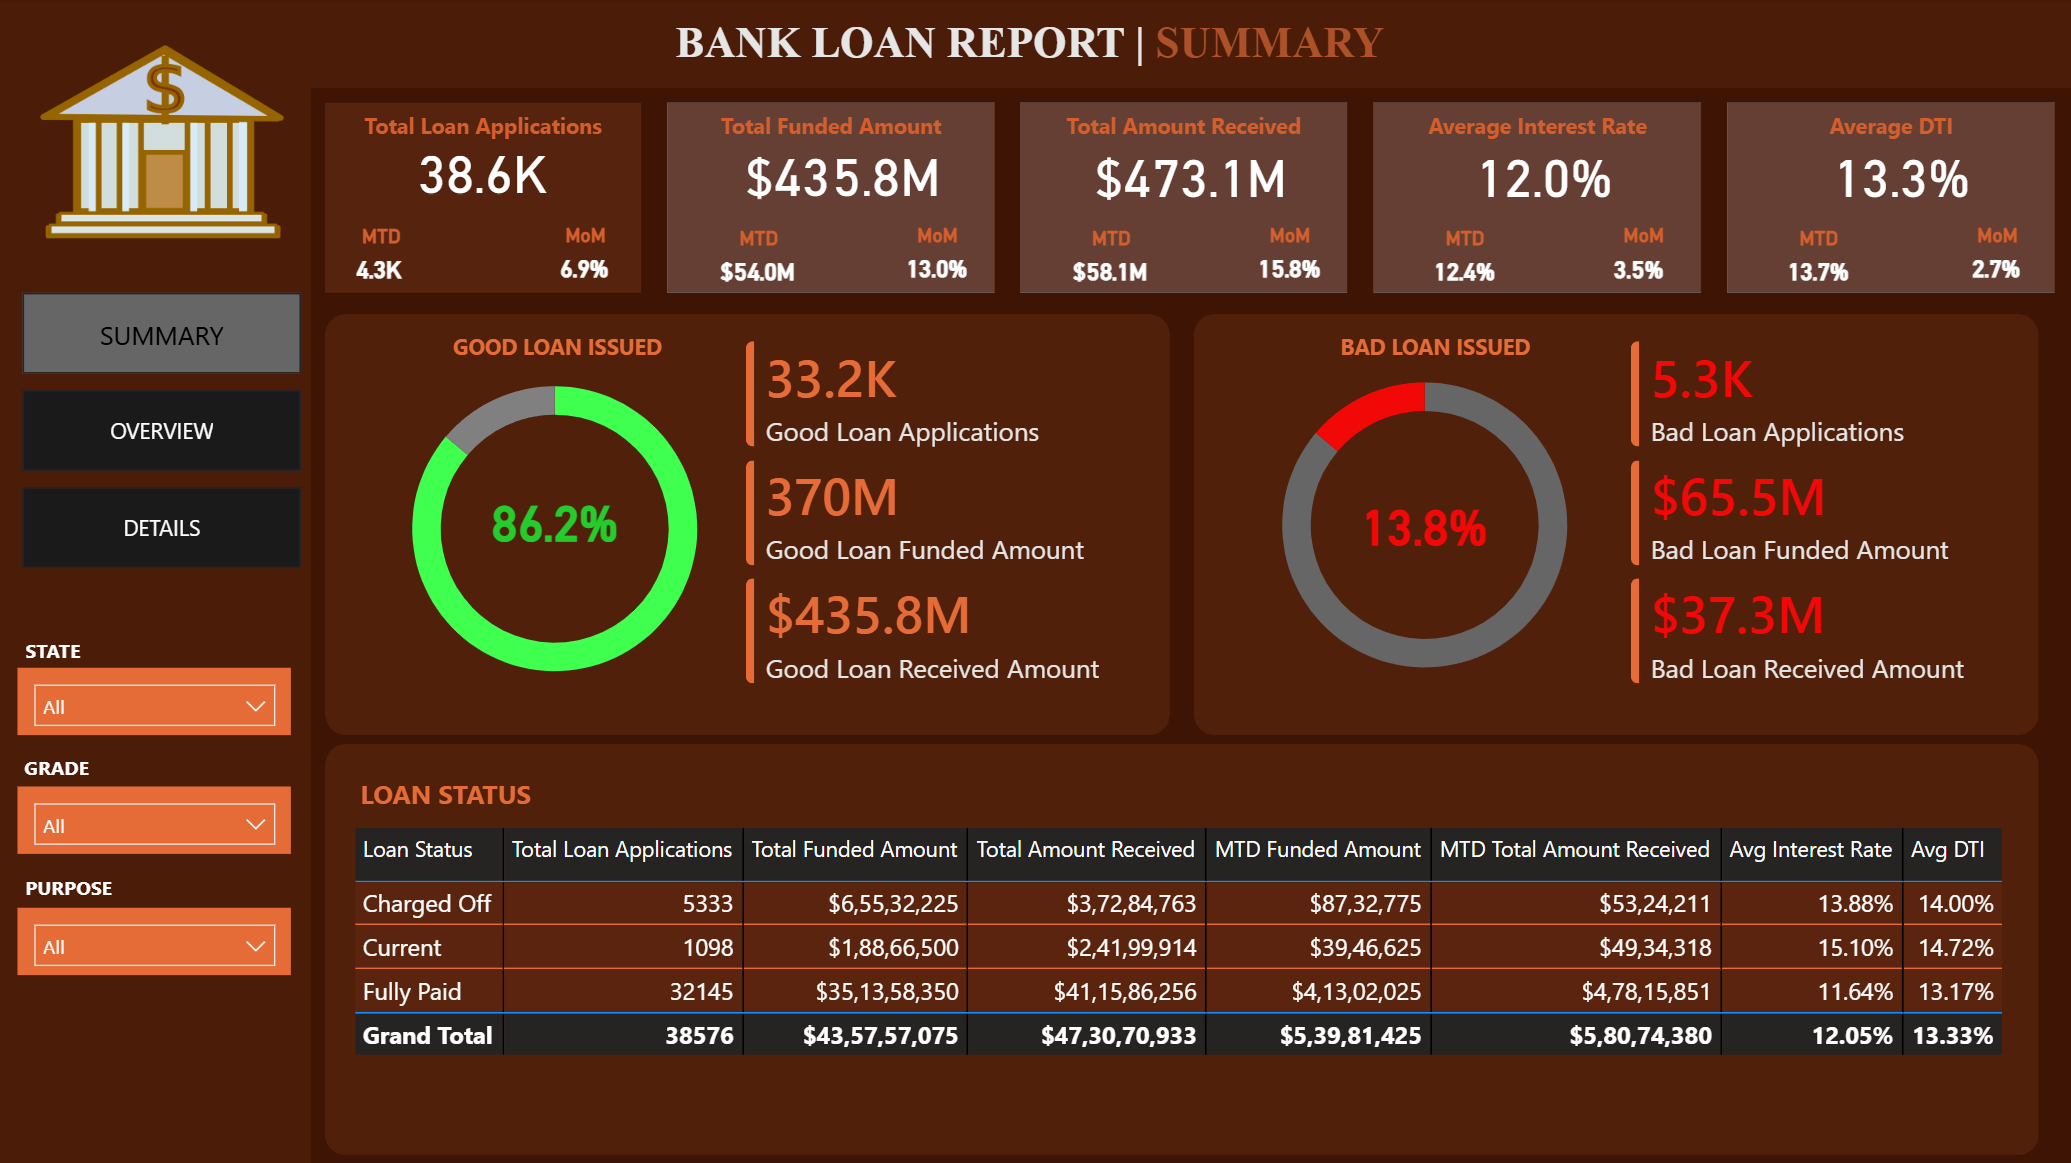

The page's visual inventory and layout, read from the dashboard file:
{"tool":"powerbi","page":{"name":"SUMMARY","canvas":[1280,720],"ordinal":0},"visuals":[{"type":"shape","box":[0,0,1279.8,55],"z":0},{"type":"shape","box":[0,54.8,192,665.4],"z":1000},{"type":"textbox","box":[412.2,6.9,456.2,42.5],"z":2000},{"type":"group","id":"g1","title":"Group 1","box":[200.7,64.1,195.3,117.3],"z":3000},{"type":"shape","box":[200.7,64.1,195.3,117.3],"z":3000,"group":"g1"},{"type":"shape","box":[411.9,64.1,202.2,117.3],"z":3000,"group":"g2"},{"type":"shape","box":[630.1,64.1,202.2,117.3],"z":3000,"group":"g3"},{"type":"shape","box":[848.3,64.1,202.2,117.3],"z":3000,"group":"g4"},{"type":"shape","box":[1066.5,64.1,202.2,117.3],"z":3000,"group":"g5"},{"type":"group","id":"g2","title":"Group 1","box":[411.9,64.1,202.2,117.3],"z":4000},{"type":"advanceCardE03760C5AB684758B56AA29F9E6C257B","fields":{"mainMeasure":["bank_loan_data.Total Loan Applications"]},"box":[235.4,91.9,125.8,34],"z":4000,"group":"g1"},{"type":"advanceCardE03760C5AB684758B56AA29F9E6C257B","fields":{"mainMeasure":["bank_loan_data.Total Funded Amount"]},"box":[443.6,92.6,153.6,36.3],"z":4000,"group":"g2"},{"type":"advanceCardE03760C5AB684758B56AA29F9E6C257B","fields":{"mainMeasure":["bank_loan_data.Total Amount Received"]},"box":[663.2,92.6,145.1,37.8],"z":4000,"group":"g3"},{"type":"advanceCardE03760C5AB684758B56AA29F9E6C257B","fields":{"mainMeasure":["bank_loan_data.Avg Interest Rate"]},"box":[879.7,92.6,147.4,37.8],"z":4000,"group":"g4"},{"type":"advanceCardE03760C5AB684758B56AA29F9E6C257B","fields":{"mainMeasure":["bank_loan_data.Avg DTI"]},"box":[1102.4,92.6,142.8,37.8],"z":4000,"group":"g5"},{"type":"textbox","box":[200.7,64.1,195.3,27.8],"z":5000,"group":"g1"},{"type":"textbox","box":[411.9,64.1,202.2,27.8],"z":5000,"group":"g2"},{"type":"group","id":"g3","title":"Group 1","box":[630.1,64.1,202.2,117.3],"z":5000},{"type":"textbox","box":[630.1,64.1,202.2,27.8],"z":5000,"group":"g3"},{"type":"textbox","box":[848.3,64.1,202.2,27.8],"z":5000,"group":"g4"},{"type":"textbox","box":[1066.5,64.1,202.2,27.8],"z":5000,"group":"g5"},{"type":"group","id":"g4","title":"Group 1","box":[848.3,64.1,202.2,117.3],"z":6000},{"type":"advanceCardE03760C5AB684758B56AA29F9E6C257B","title":"MTD","fields":{"mainMeasure":["bank_loan_data.MTD Loan Applications"]},"box":[213,139.7,44.8,41.7],"z":6000,"group":"g1"},{"type":"advanceCardE03760C5AB684758B56AA29F9E6C257B","title":"MTD","fields":{"mainMeasure":["bank_loan_data.MTD Funded Amount"]},"box":[424.1,140.5,88,40.9],"z":6000,"group":"g2"},{"type":"advanceCardE03760C5AB684758B56AA29F9E6C257B","title":"MTD","fields":{"mainMeasure":["bank_loan_data.MTD Total Amount Received"]},"box":[642.3,140.5,88,40.9],"z":6000,"group":"g3"},{"type":"advanceCardE03760C5AB684758B56AA29F9E6C257B","title":"MTD","fields":{"mainMeasure":["bank_loan_data.MTD Avg Interest Rate"]},"box":[860.5,140.5,88,40.9],"z":6000,"group":"g4"},{"type":"advanceCardE03760C5AB684758B56AA29F9E6C257B","title":"MTD","fields":{"mainMeasure":["bank_loan_data.MTD Avg DTI"]},"box":[1078.7,140.5,88,40.9],"z":6000,"group":"g5"},{"type":"group","id":"g5","title":"Group 1","box":[1066.5,64.1,202.2,117.3],"z":7000},{"type":"advanceCardE03760C5AB684758B56AA29F9E6C257B","title":"MoM","fields":{"mainMeasure":["bank_loan_data.MoM Loan Applications"]},"box":[330.4,139,62.5,42.5],"z":7000,"group":"g1"},{"type":"advanceCardE03760C5AB684758B56AA29F9E6C257B","title":"MoM","fields":{"mainMeasure":["bank_loan_data.MoM Funded Amount"]},"box":[546.2,139,64.7,42.5],"z":7000,"group":"g2"},{"type":"advanceCardE03760C5AB684758B56AA29F9E6C257B","title":"MoM","fields":{"mainMeasure":["bank_loan_data.MoM Amount Received"]},"box":[764.4,139,64.7,42.5],"z":7000,"group":"g3"},{"type":"advanceCardE03760C5AB684758B56AA29F9E6C257B","title":"MoM","fields":{"mainMeasure":["bank_loan_data.MoM Interest Rate"]},"box":[982.6,139,64.7,42.5],"z":7000,"group":"g4"},{"type":"advanceCardE03760C5AB684758B56AA29F9E6C257B","title":"MoM","fields":{"mainMeasure":["bank_loan_data.MoM DTI"]},"box":[1200.8,139,64.7,42.5],"z":7000,"group":"g5"},{"type":"shape","box":[200.7,194.5,521.8,260.1],"z":8000},{"type":"shape","box":[737.1,194.5,521.8,260.1],"z":9000},{"type":"donutChart","fields":{"Category":["bank_loan_data.Good vs Bad Loan"],"Y":["bank_loan_data.Total Loan Applications"]},"box":[217.7,212.3,250.1,230],"z":10000},{"type":"advanceCardE03760C5AB684758B56AA29F9E6C257B","fields":{"mainMeasure":["bank_loan_data.Good Loan %"]},"box":[270.9,294.1,143.6,61],"z":11000},{"type":"textbox","box":[274.8,200.7,149,30.9],"z":12000},{"type":"cardVisual","fields":{"Data":["bank_loan_data.Good Loan Applications","bank_loan_data.Good Loan Funded Amount","bank_loan_data.Good Loan Received Amount"]},"box":[443.8,194.5,278.6,247.8],"z":13000},{"type":"donutChart","fields":{"Category":["bank_loan_data.Good vs Bad Loan"],"Y":["bank_loan_data.Total Loan Applications"]},"box":[754.9,209.9,250.1,230],"z":14000},{"type":"textbox","box":[822.8,200.7,147.4,30.9],"z":15000},{"type":"advanceCardE03760C5AB684758B56AA29F9E6C257B","fields":{"mainMeasure":["bank_loan_data.Bad Loan %"]},"box":[817.4,301,124.3,52.5],"z":16000},{"type":"cardVisual","fields":{"Data":["bank_loan_data.Bad Loan Applications","bank_loan_data.Bad Loan Funded Amount","bank_loan_data.Bad Loan Received Amount"]},"box":[990.3,193.7,278.6,247.8],"z":17000},{"type":"shape","box":[200.7,460,1058.2,253.9],"z":18000},{"type":"tableEx","fields":{"Values":["bank_loan_data.loan_status","bank_loan_data.Total Loan Applications","bank_loan_data.Total Funded Amount","bank_loan_data.Total Amount Received","bank_loan_data.MTD Funded Amount","bank_loan_data.MTD Total Amount Received","bank_loan_data.Avg Interest Rate","bank_loan_data.Avg DTI"]},"box":[213,507.1,1032,177.5],"z":19000},{"type":"textbox","box":[217.7,474.7,165.2,32.4],"z":20000},{"type":"slicer","fields":{"Values":["bank_loan_data.address_state"]},"box":[10.8,413,169,41.7],"z":21000},{"type":"textbox","box":[10.8,387.5,144.3,32.4],"z":22000},{"type":"slicer","fields":{"Values":["bank_loan_data.grade"]},"box":[10.8,486.3,169,41.7],"z":23000},{"type":"textbox","box":[10,460,144.3,32.4],"z":24000},{"type":"slicer","fields":{"Values":["bank_loan_data.purpose"]},"box":[10.8,561.2,169,41.7],"z":25000},{"type":"textbox","box":[10.8,534.1,144.3,32.4],"z":26000},{"type":"pageNavigator","box":[13.9,181.4,172.9,172.1],"z":26001},{"type":"image","box":[20.8,28.6,158.2,118.9],"z":26002}]}

Visuals, with their boxes in screenshot pixels (x1, y1, x2, y2), scaled from the page's 1280x720 canvas onto the 2071x1163 screenshot:
shape: region(0, 0, 2070, 89)
shape: region(0, 89, 311, 1162)
textbox: region(667, 11, 1405, 80)
"Group 1" group: region(325, 104, 641, 293)
shape: region(325, 104, 641, 293)
shape: region(666, 104, 994, 293)
shape: region(1019, 104, 1347, 293)
shape: region(1373, 104, 1700, 293)
shape: region(1726, 104, 2053, 293)
"Group 1" group: region(666, 104, 994, 293)
advanceCardE03760C5AB684758B56AA29F9E6C257B - bank_loan_data.Total Loan Applications: region(381, 148, 584, 203)
advanceCardE03760C5AB684758B56AA29F9E6C257B - bank_loan_data.Total Funded Amount: region(718, 150, 966, 208)
advanceCardE03760C5AB684758B56AA29F9E6C257B - bank_loan_data.Total Amount Received: region(1073, 150, 1308, 211)
advanceCardE03760C5AB684758B56AA29F9E6C257B - bank_loan_data.Avg Interest Rate: region(1423, 150, 1662, 211)
advanceCardE03760C5AB684758B56AA29F9E6C257B - bank_loan_data.Avg DTI: region(1784, 150, 2015, 211)
textbox: region(325, 104, 641, 148)
textbox: region(666, 104, 994, 148)
"Group 1" group: region(1019, 104, 1347, 293)
textbox: region(1019, 104, 1347, 148)
textbox: region(1373, 104, 1700, 148)
textbox: region(1726, 104, 2053, 148)
"Group 1" group: region(1373, 104, 1700, 293)
"MTD" advanceCardE03760C5AB684758B56AA29F9E6C257B: region(345, 226, 417, 293)
"MTD" advanceCardE03760C5AB684758B56AA29F9E6C257B: region(686, 227, 829, 293)
"MTD" advanceCardE03760C5AB684758B56AA29F9E6C257B: region(1039, 227, 1182, 293)
"MTD" advanceCardE03760C5AB684758B56AA29F9E6C257B: region(1392, 227, 1535, 293)
"MTD" advanceCardE03760C5AB684758B56AA29F9E6C257B: region(1745, 227, 1888, 293)
"Group 1" group: region(1726, 104, 2053, 293)
"MoM" advanceCardE03760C5AB684758B56AA29F9E6C257B: region(535, 225, 636, 293)
"MoM" advanceCardE03760C5AB684758B56AA29F9E6C257B: region(884, 225, 988, 293)
"MoM" advanceCardE03760C5AB684758B56AA29F9E6C257B: region(1237, 225, 1341, 293)
"MoM" advanceCardE03760C5AB684758B56AA29F9E6C257B: region(1590, 225, 1694, 293)
"MoM" advanceCardE03760C5AB684758B56AA29F9E6C257B: region(1943, 225, 2048, 293)
shape: region(325, 314, 1169, 734)
shape: region(1193, 314, 2037, 734)
donutChart - bank_loan_data.Good vs Bad Loan x bank_loan_data.Total Loan Applications: region(352, 343, 757, 714)
advanceCardE03760C5AB684758B56AA29F9E6C257B - bank_loan_data.Good Loan %: region(438, 475, 671, 574)
textbox: region(445, 324, 686, 374)
cardVisual - bank_loan_data.Good Loan Applications x bank_loan_data.Good Loan Funded Amount: region(718, 314, 1169, 714)
donutChart - bank_loan_data.Good vs Bad Loan x bank_loan_data.Total Loan Applications: region(1221, 339, 1626, 711)
textbox: region(1331, 324, 1570, 374)
advanceCardE03760C5AB684758B56AA29F9E6C257B - bank_loan_data.Bad Loan %: region(1323, 486, 1524, 571)
cardVisual - bank_loan_data.Bad Loan Applications x bank_loan_data.Bad Loan Funded Amount: region(1602, 313, 2053, 713)
shape: region(325, 743, 2037, 1153)
tableEx - bank_loan_data.loan_status x bank_loan_data.Total Loan Applications: region(345, 819, 2014, 1106)
textbox: region(352, 767, 620, 819)
slicer - bank_loan_data.address_state: region(17, 667, 291, 734)
textbox: region(17, 626, 251, 678)
slicer - bank_loan_data.grade: region(17, 786, 291, 853)
textbox: region(16, 743, 250, 795)
slicer - bank_loan_data.purpose: region(17, 906, 291, 974)
textbox: region(17, 863, 251, 915)
pageNavigator: region(22, 293, 302, 571)
image: region(34, 46, 290, 238)
